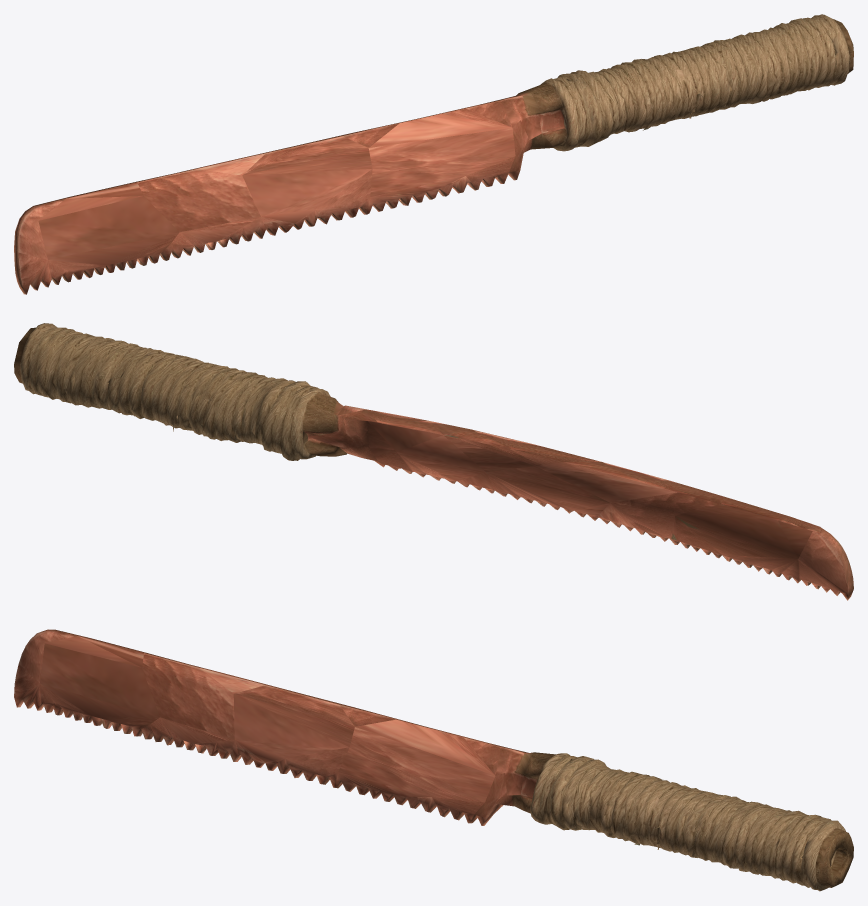
File: Handsaw_Copper_Optimized.glb
3 views of the same model, one above another, from view 1: azimuth 30°, elevation 25°; view 2: azimuth 150°, elevation 25°; view 3: azimuth 330°, elevation 25° (orthographic).
Visible parts, largest first — view 1: Handsaw_Copper; view 2: Handsaw_Copper; view 3: Handsaw_Copper.
Boxes of the visible parts, left/top/right/bottom form: Handsaw_Copper: left=14, top=14, right=853, bottom=294; Handsaw_Copper: left=14, top=323, right=853, bottom=600; Handsaw_Copper: left=14, top=629, right=853, bottom=891.
Bounding box in the file's own units: 1.9 × 0.1799 × 0.1844.
Materials: 1 (1 with a texture image).
